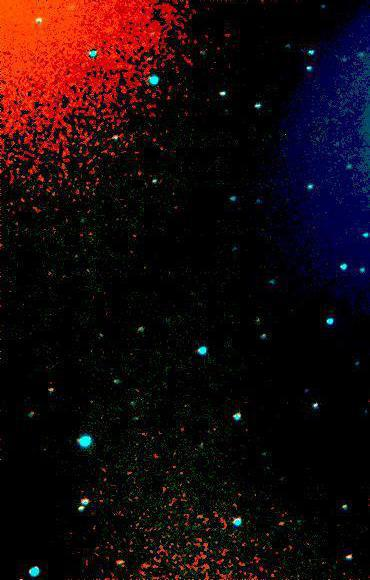star: (300, 125, 330, 155)
